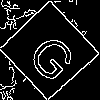G: (25, 25, 86, 85)
